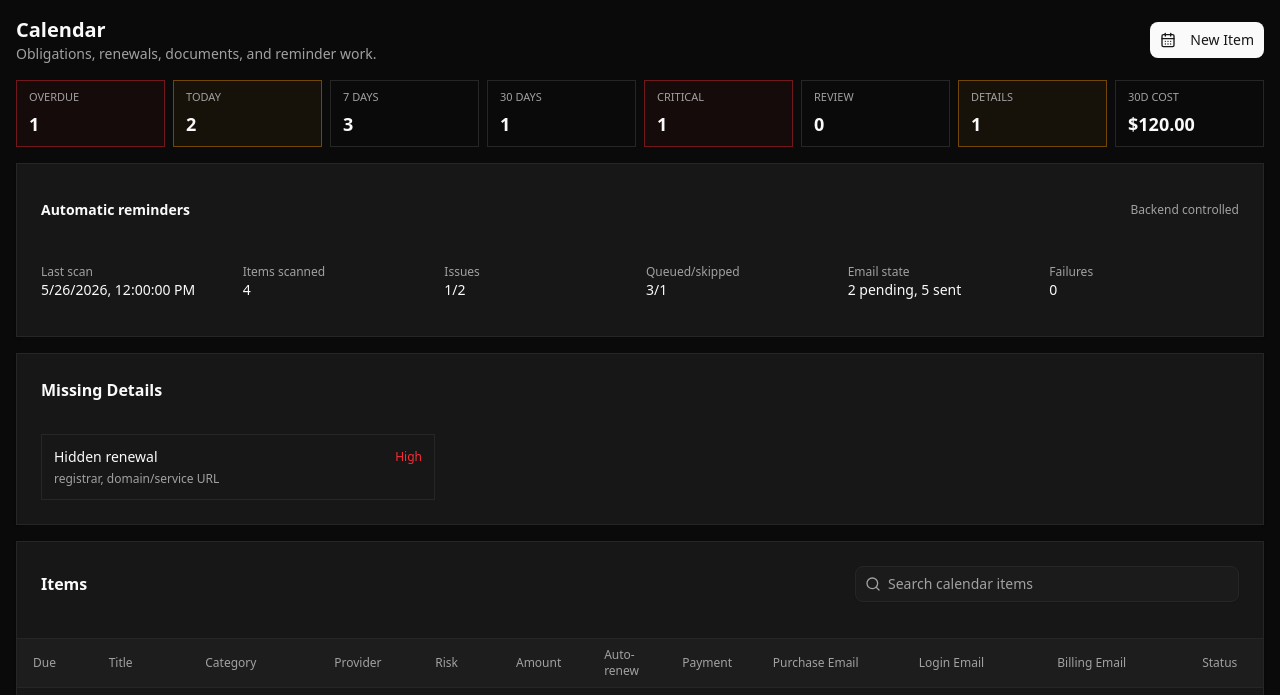
Calendar › opens a missing details item even when it is not in the current list
Step 1. Click the button with test id "calendar-missing-details-stale-item" → click(106, 456), box [41,434,435,500]
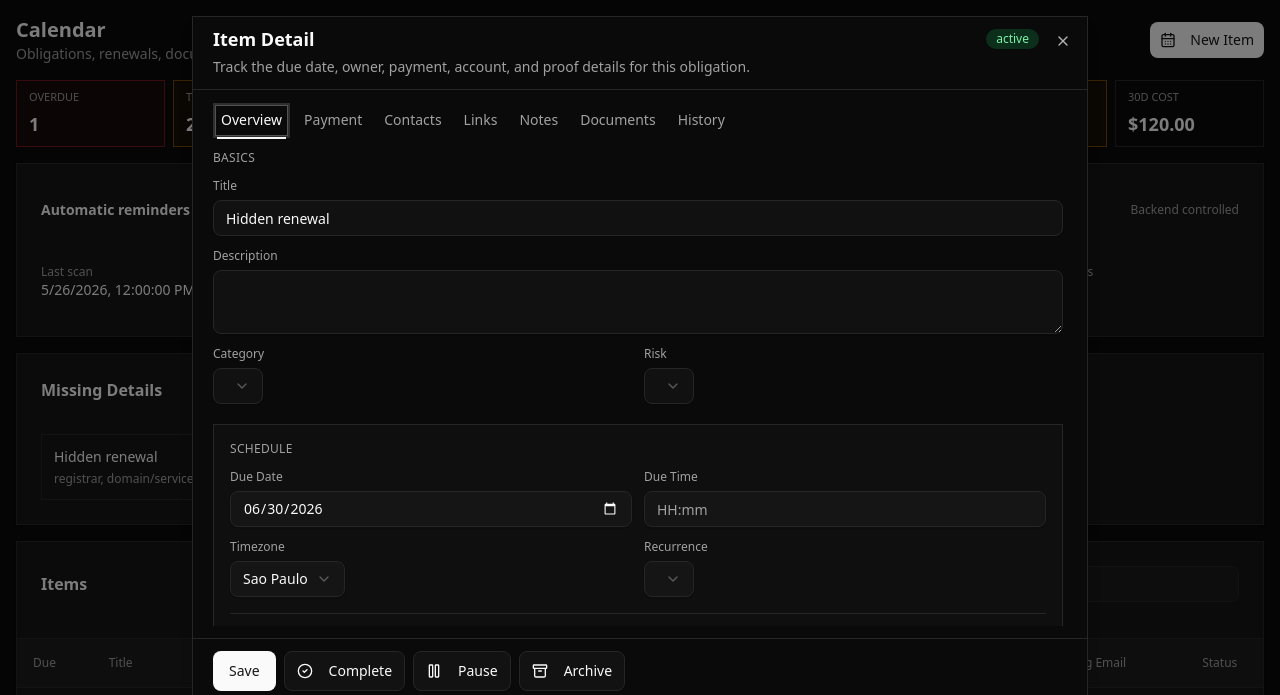
Expected: the text "Hidden renewal" is shown, [54,446,158,466]
Now the text "Item Detail" is shown, box [213,30,314,48]
Now the 1st field is shown, box [213,200,1063,236]
